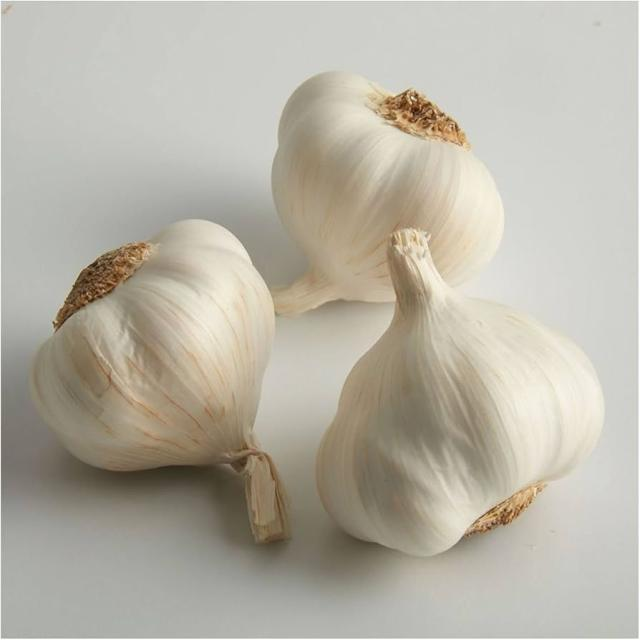garlic: (300, 294, 610, 557), (14, 213, 288, 504), (259, 70, 511, 288)
